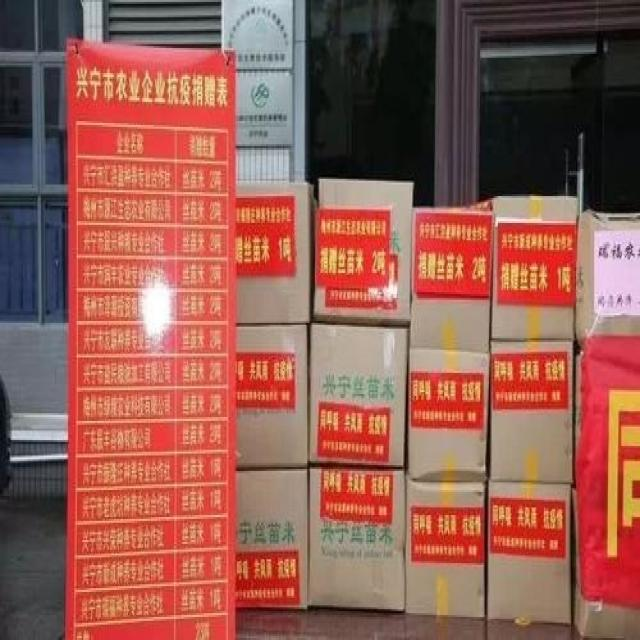box: (467, 196, 580, 338), (308, 323, 410, 467), (314, 179, 413, 325), (308, 465, 404, 611), (486, 482, 572, 627), (410, 206, 494, 354), (490, 340, 573, 484), (406, 473, 485, 619), (407, 348, 490, 482), (236, 183, 315, 323), (571, 486, 640, 640), (236, 325, 308, 469), (237, 469, 308, 611), (575, 209, 640, 350), (573, 356, 582, 459)
